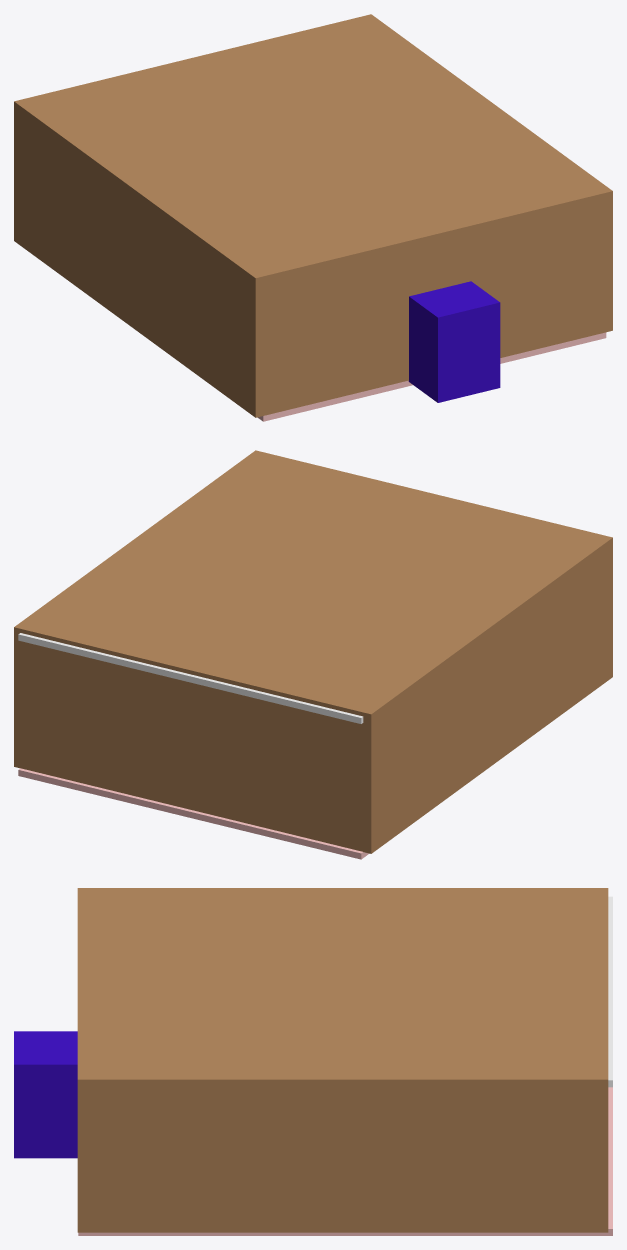
The model's file is sala.fbx.
The picture shows the model from 3 angles, top to bottom: view 1: azimuth 30°, elevation 25°; view 2: azimuth 150°, elevation 25°; view 3: azimuth 270°, elevation 25°; orthographic projection. The views are drawn at different scales.
Parts seen in each view (by area): view 1: BASE, BASE_ASCENSOR, techo__1_; view 2: BASE, techo__1_, techo; view 3: BASE, BASE_ASCENSOR, techo__1_, techo.
Part boxes in pixels (x1,y1,x2,y2): BASE: (14,14,612,417); BASE_ASCENSOR: (408,281,500,402); techo__1_: (257,332,606,421); BASE: (14,450,612,853); techo__1_: (18,768,368,859); techo: (18,633,363,723); BASE: (77,888,608,1232); BASE_ASCENSOR: (14,1031,77,1158); techo__1_: (78,1087,612,1235); techo: (608,896,612,1087).
Bounding box in the file's own units: 1050 × 409 × 1388.
